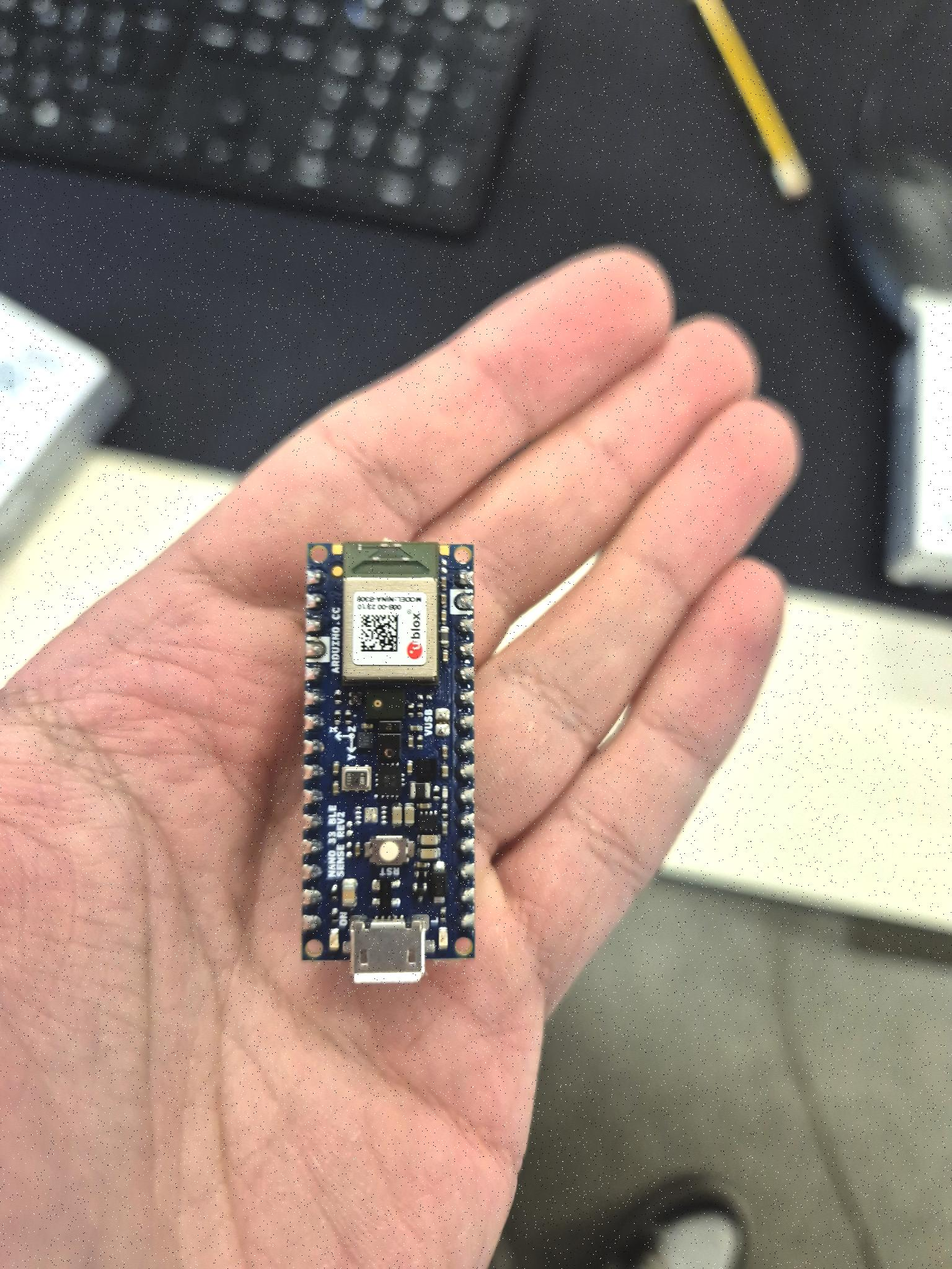arduino-nano-ble-sense: (302, 542, 474, 982)
